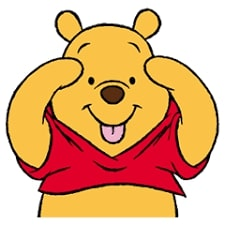Winnie: (39, 7, 194, 169)
